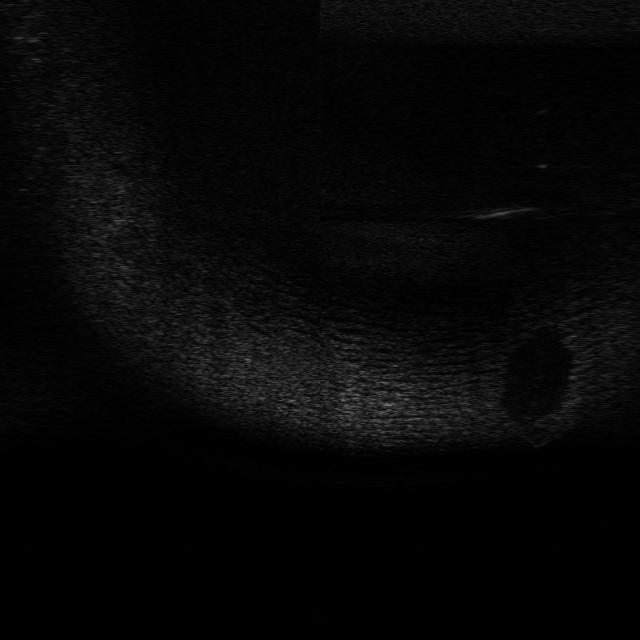cube: (502, 404, 576, 447)
